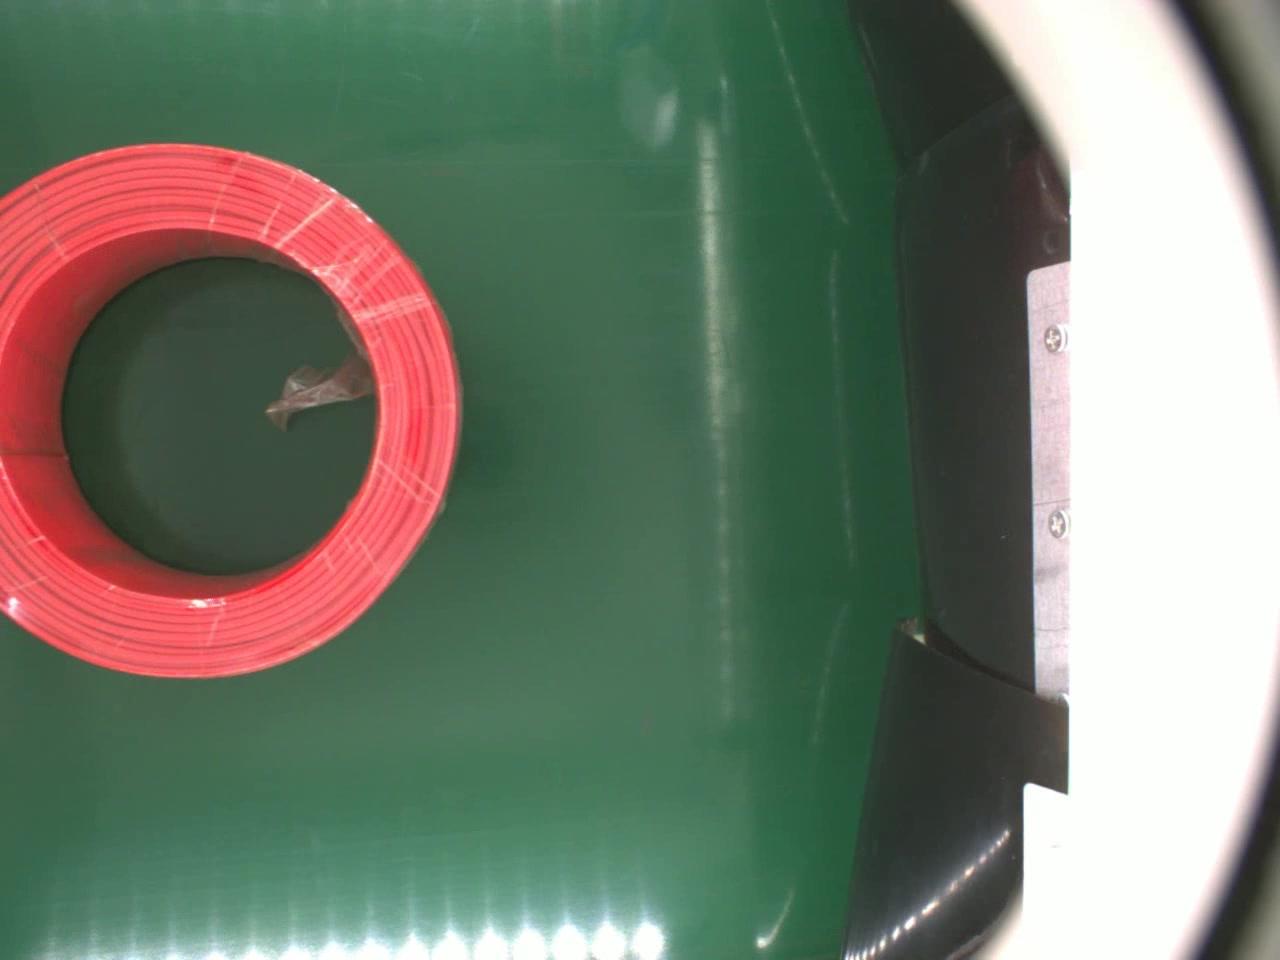red: (0, 137, 467, 682)
